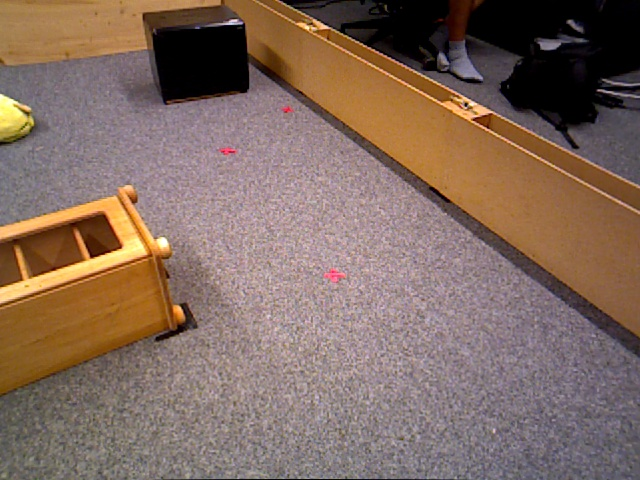grasp: (1, 95, 35, 147)
push: (143, 14, 252, 100)
